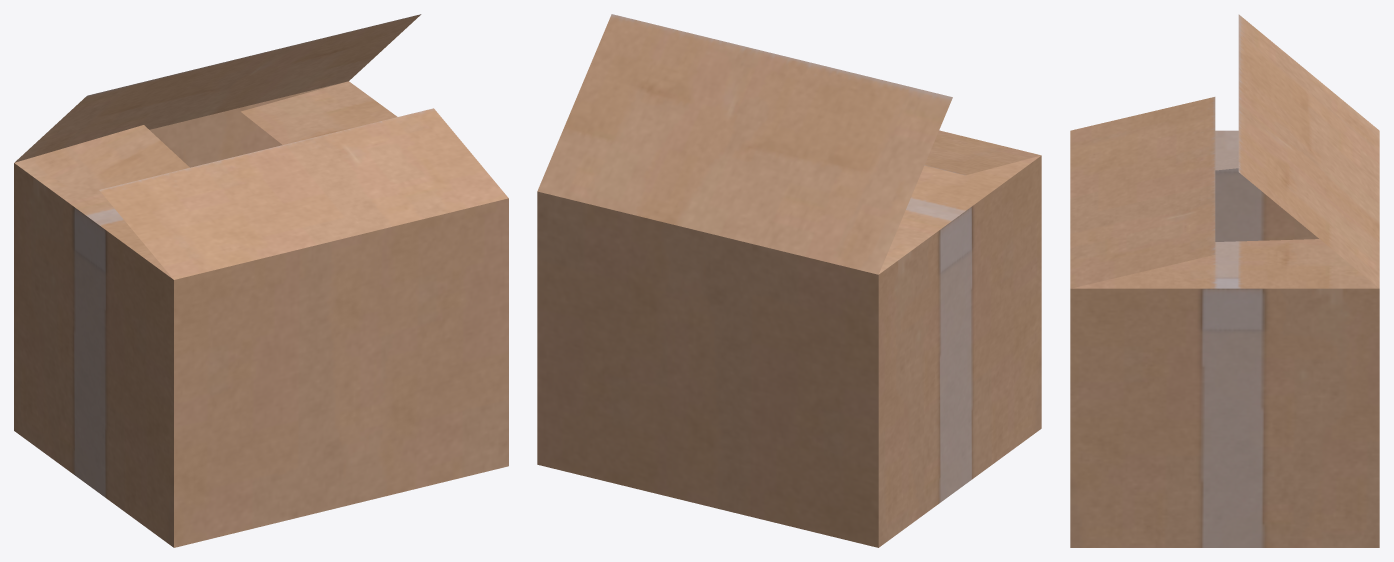
The model's file is cartons.fbx.
The picture shows the model from 3 angles, left to right: view 1: azimuth 30°, elevation 25°; view 2: azimuth 150°, elevation 25°; view 3: azimuth 270°, elevation 25°; orthographic projection. The views are drawn at different scales.
Parts seen in each view (by area): view 1: pCube2; view 2: pCube2; view 3: pCube2.
Boxes of the visible parts, x1=… form: pCube2: x1=14, y1=14, x2=508, y2=547; pCube2: x1=537, y1=14, x2=1041, y2=547; pCube2: x1=1070, y1=14, x2=1379, y2=547.
Bounding box in the file's own units: 1.81 × 2.01 × 1.5.
